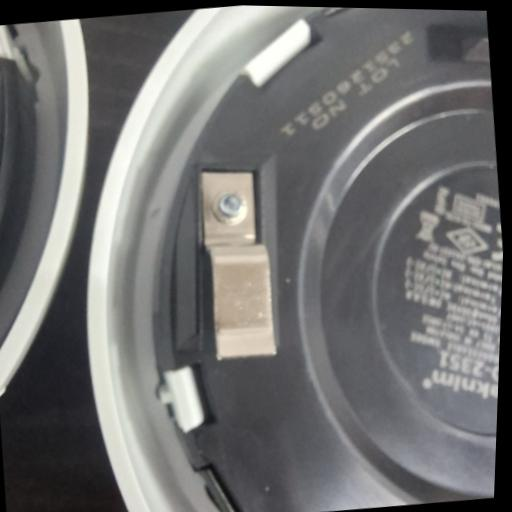yaysiz: (186, 158, 288, 366)
